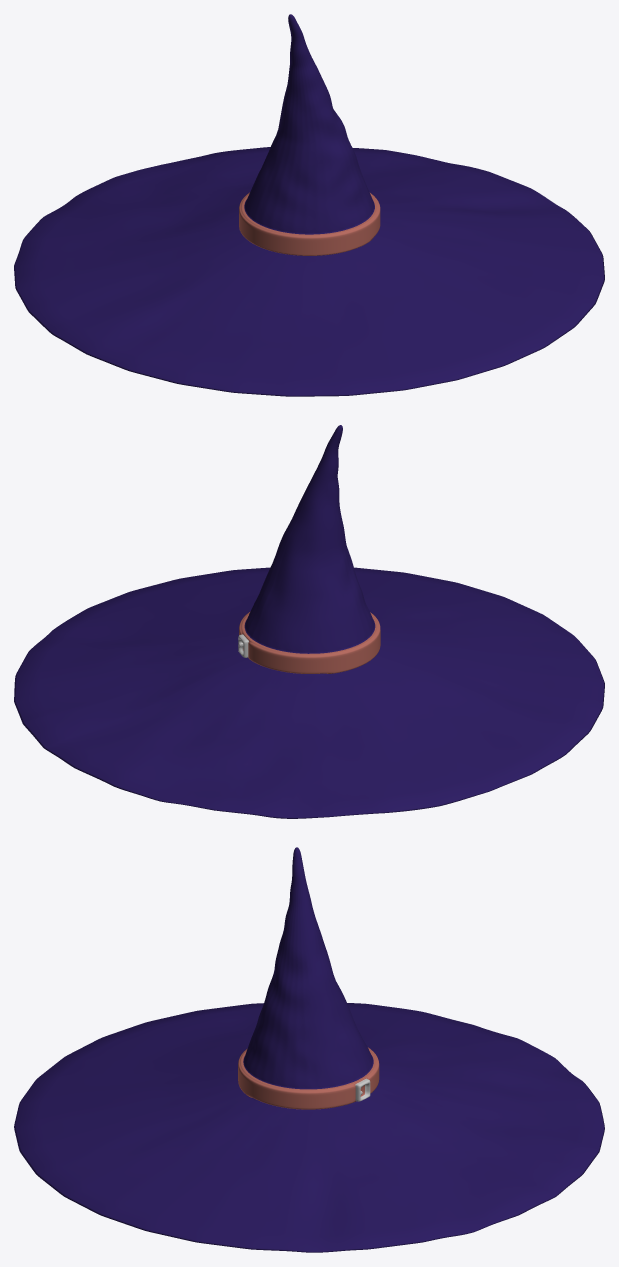
The model's file is witch hat.fbx.
3 renders of one model, top to bottom at view 1: azimuth 30°, elevation 25°; view 2: azimuth 150°, elevation 25°; view 3: azimuth 270°, elevation 25°, orthographic.
Visible parts, largest first — view 1: Cylinder; view 2: Cylinder; view 3: Cylinder.
Boxes of the visible parts, <box> form: Cylinder: <box>14,14,604,396</box>; Cylinder: <box>14,425,604,818</box>; Cylinder: <box>14,847,604,1252</box>.
Size of the model in its own units: 3448 by 1740 by 3448.
